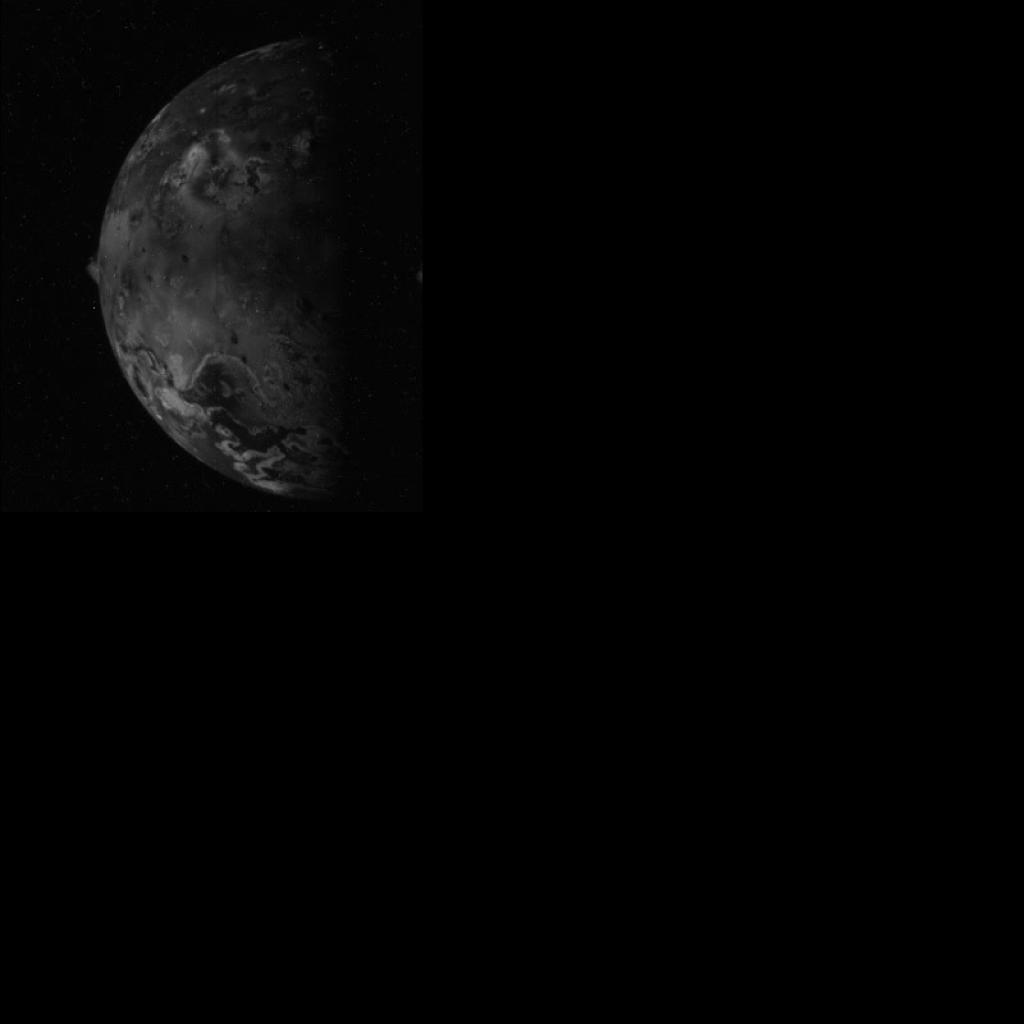plumes: (86, 253, 101, 287)
